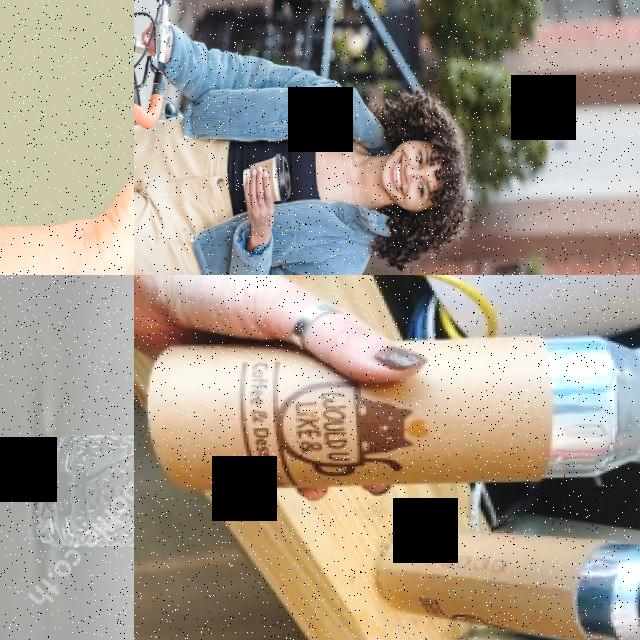bottle: (30, 426, 134, 555)
can: (142, 332, 640, 493), (376, 523, 640, 640)
cup: (238, 153, 290, 204)
